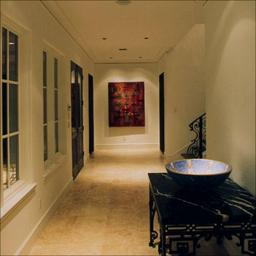Escaleras: (173, 108, 207, 160)
Puerta: (70, 58, 84, 174), (87, 70, 96, 153), (157, 71, 165, 154)
Ventana: (0, 27, 35, 219), (37, 38, 71, 175)
